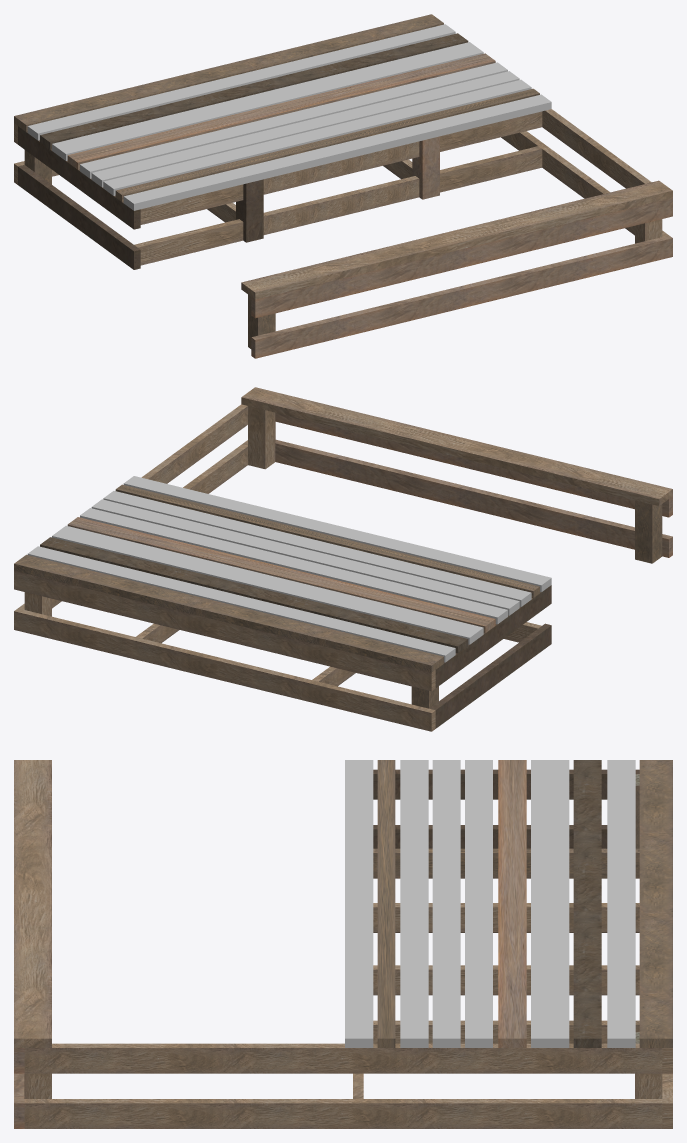
The model's file is WoodFloorPeiceB.fbx.
3 renders of one model, top to bottom at view 1: azimuth 30°, elevation 25°; view 2: azimuth 150°, elevation 25°; view 3: azimuth 270°, elevation 25°, orthographic. The views are drawn at different scales.
Visible parts, largest first — view 1: WoodFloorPeiceB; view 2: WoodFloorPeiceB; view 3: WoodFloorPeiceB.
Boxes of the visible parts, x1=… form: WoodFloorPeiceB: x1=14, y1=14, x2=672, y2=358; WoodFloorPeiceB: x1=14, y1=387, x2=672, y2=731; WoodFloorPeiceB: x1=14, y1=760, x2=672, y2=1128.
Bounding box in the file's own units: 374 × 56.6 × 374.
